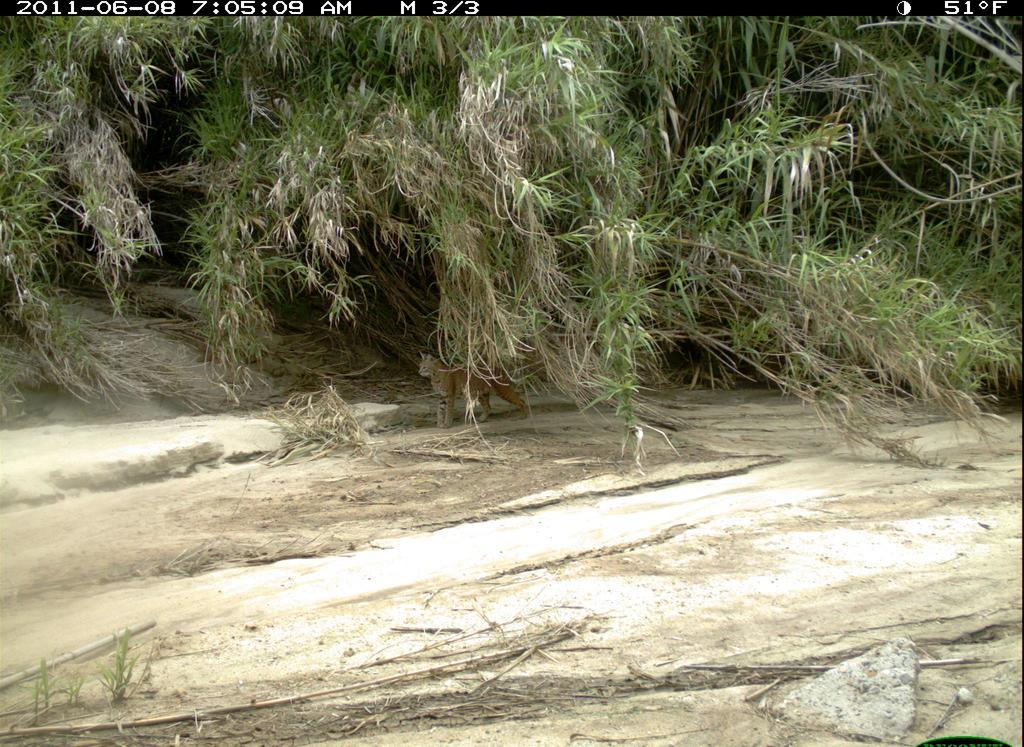bobcat: (409, 336, 557, 447)
